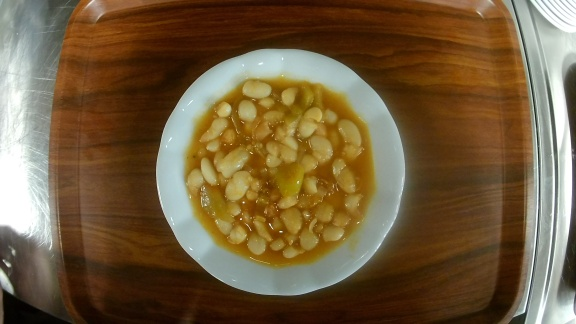kurufasulye: (154, 48, 406, 296)
